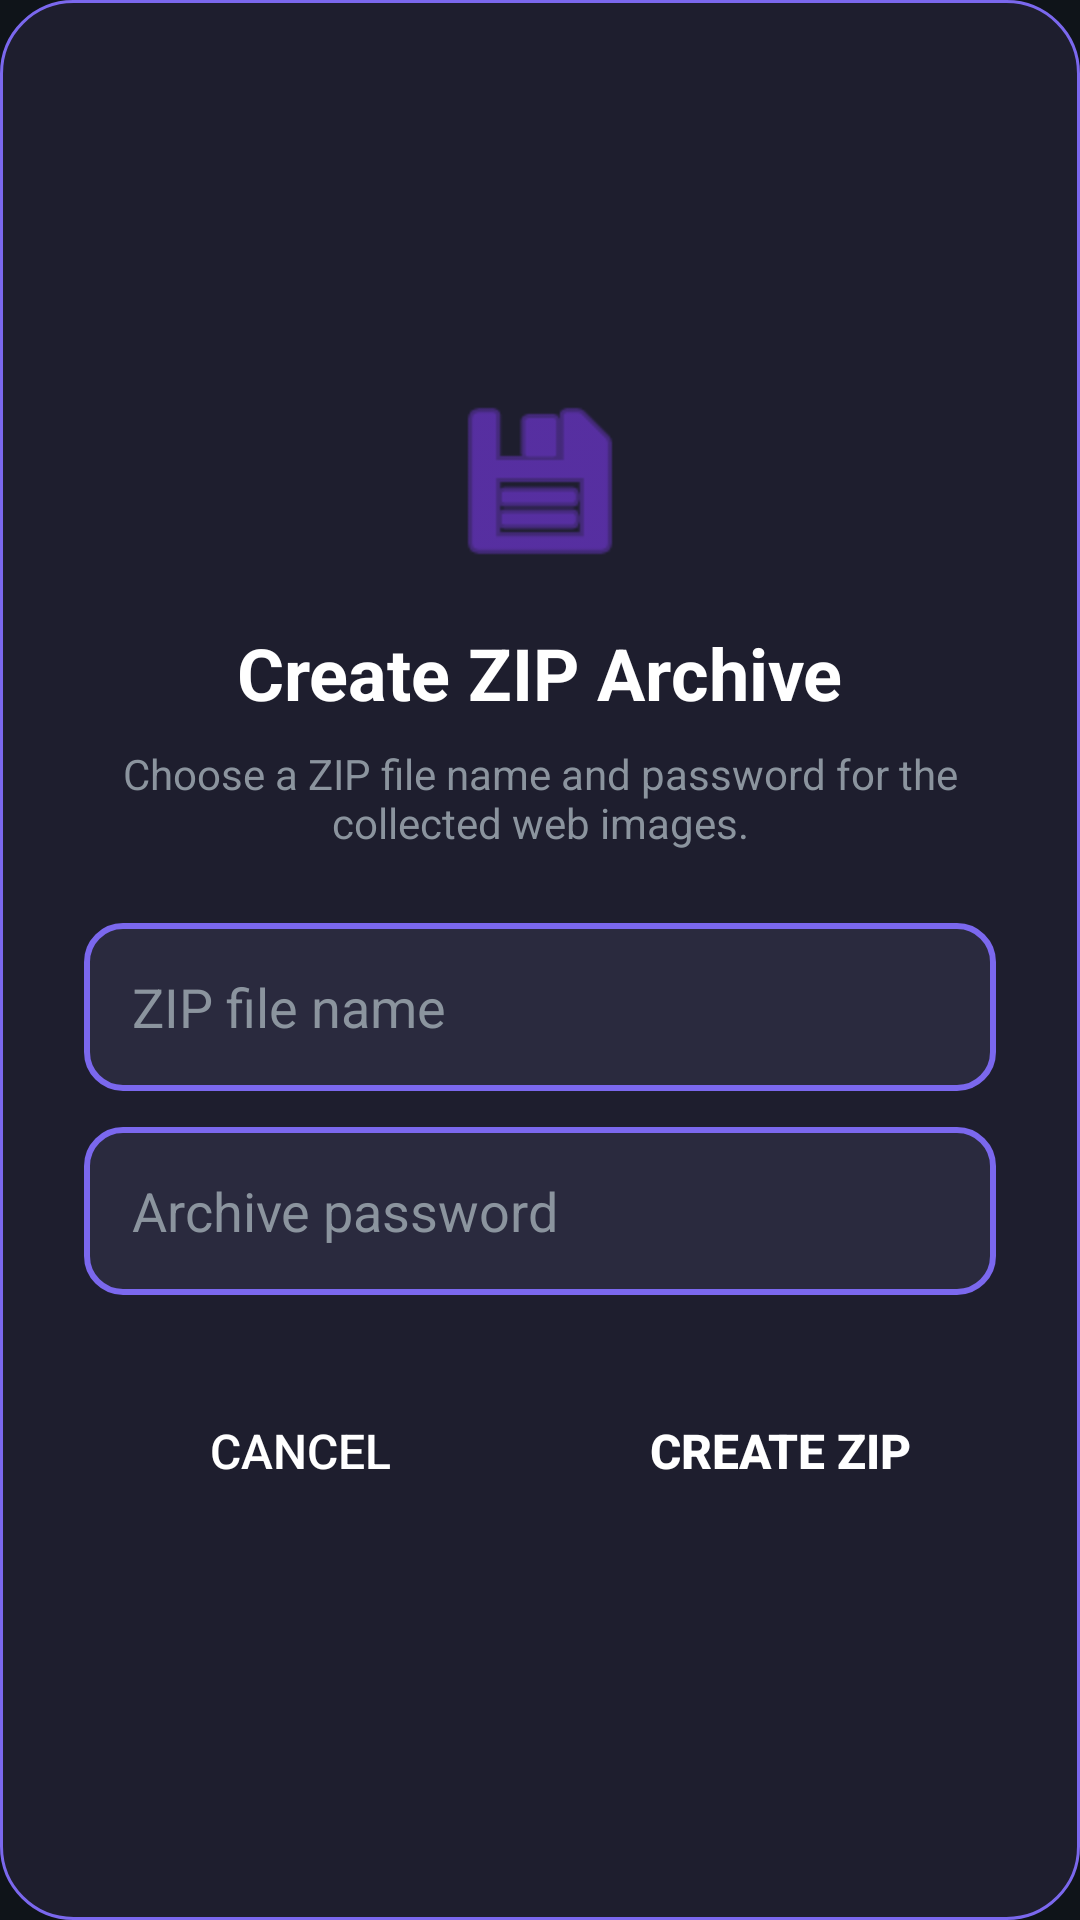

Locate icon controls on the screen. Image size 1080 x 1920, boxes as bbox(x1, y1, x2, y2).
save: bbox(468, 408, 612, 554)
